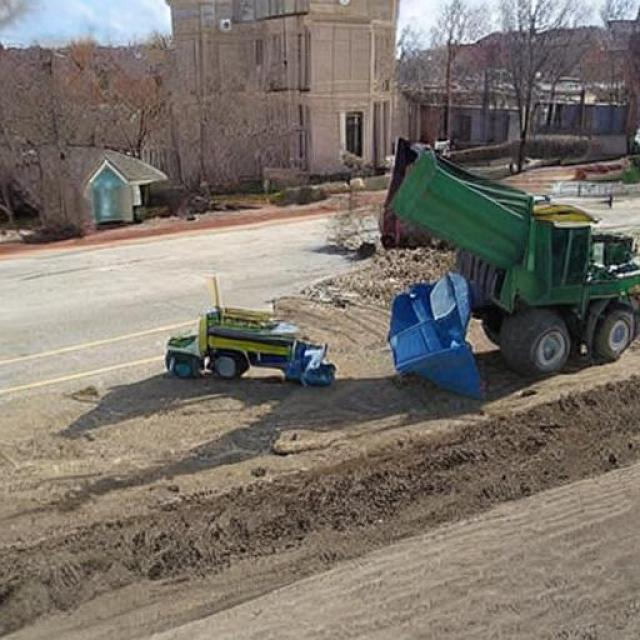truck: (15, 275, 324, 440), (293, 200, 515, 424)
